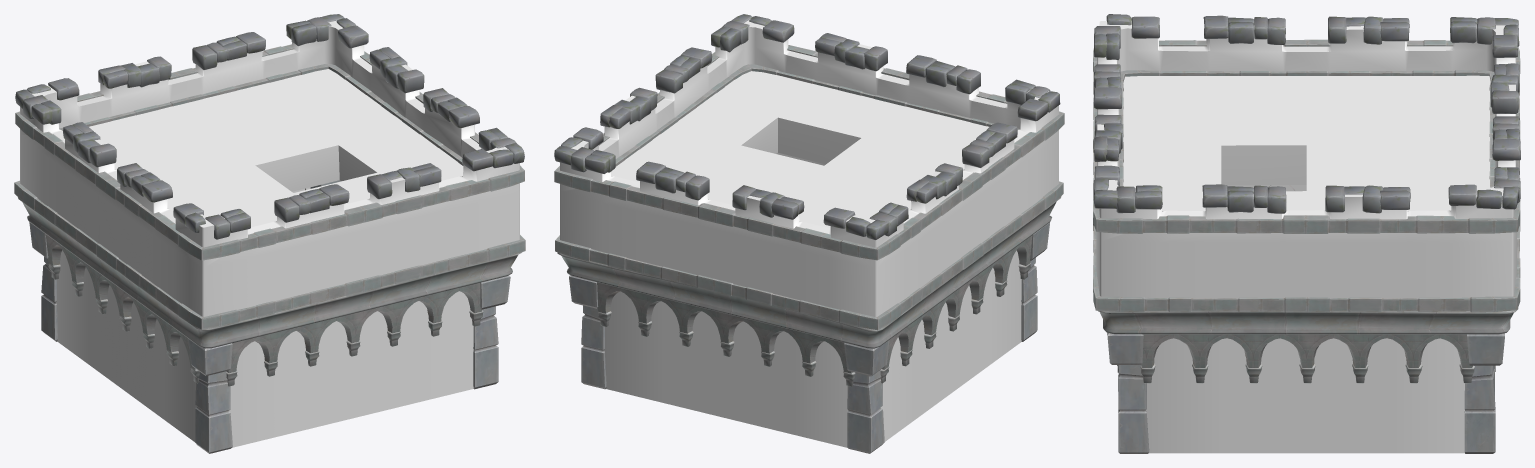
The model's file is SM_TowerE_Top_01.fbx.
3 renders of one model, left to right at view 1: azimuth 30°, elevation 25°; view 2: azimuth 150°, elevation 25°; view 3: azimuth 270°, elevation 25°, orthographic. The views are drawn at different scales.
Visible parts, largest first — view 1: SM_TowerE_Top_01_LOD0; view 2: SM_TowerE_Top_01_LOD0; view 3: SM_TowerE_Top_01_LOD0.
Boxes of the visible parts, <box> form: SM_TowerE_Top_01_LOD0: <box>14,14,525,453</box>; SM_TowerE_Top_01_LOD0: <box>554,14,1064,453</box>; SM_TowerE_Top_01_LOD0: <box>1093,14,1520,453</box>.
Size of what is drawn, in the model's own units: 11.59 by 8.1 by 11.56.
